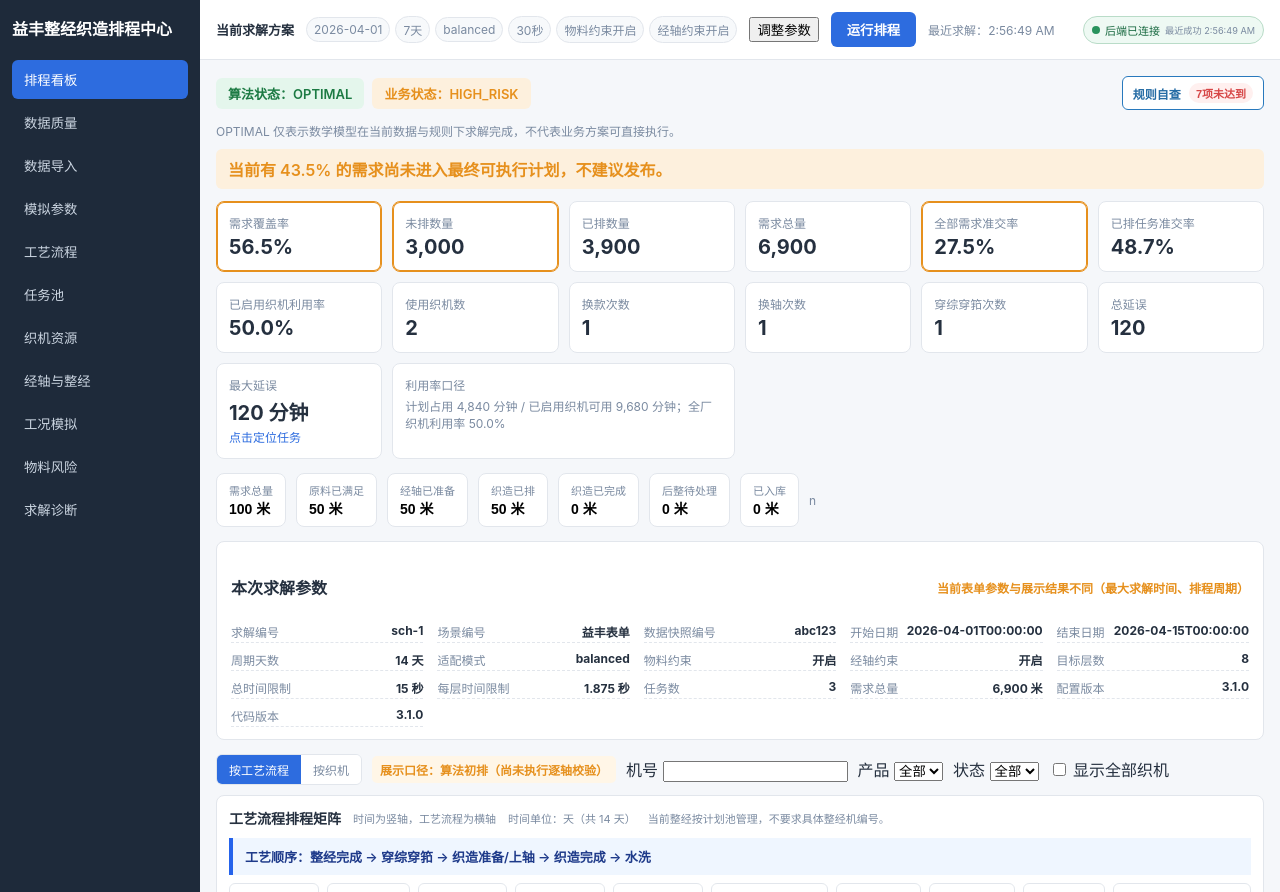
Scenario: App › 顶部只展示参数摘要，参数编辑统一进入模拟参数页面
Expected: the element with test id "solve-parameter-summary" shows "2026-04-01", [314, 22, 382, 37]
Expected: the element with test id "solve-parameter-summary" shows "7天", [404, 23, 422, 38]
Click the button "调整参数" at (784, 30), box [750, 17, 819, 42]
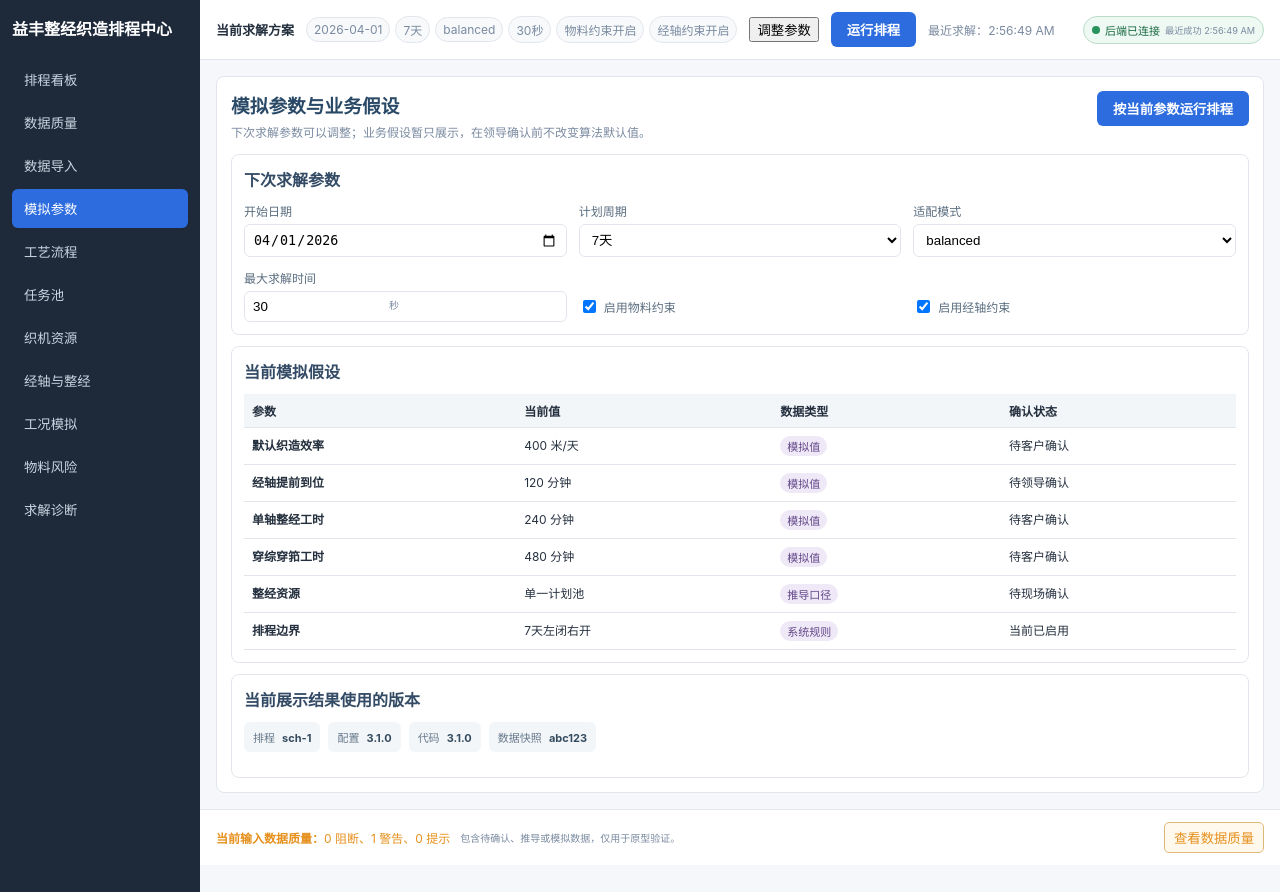
Now the element with test id "parameters-page" is shown
Now the text "经轴提前到位" is shown, box [252, 475, 324, 490]
Now the button "按当前参数运行排程" is enabled, box [1097, 91, 1249, 126]
